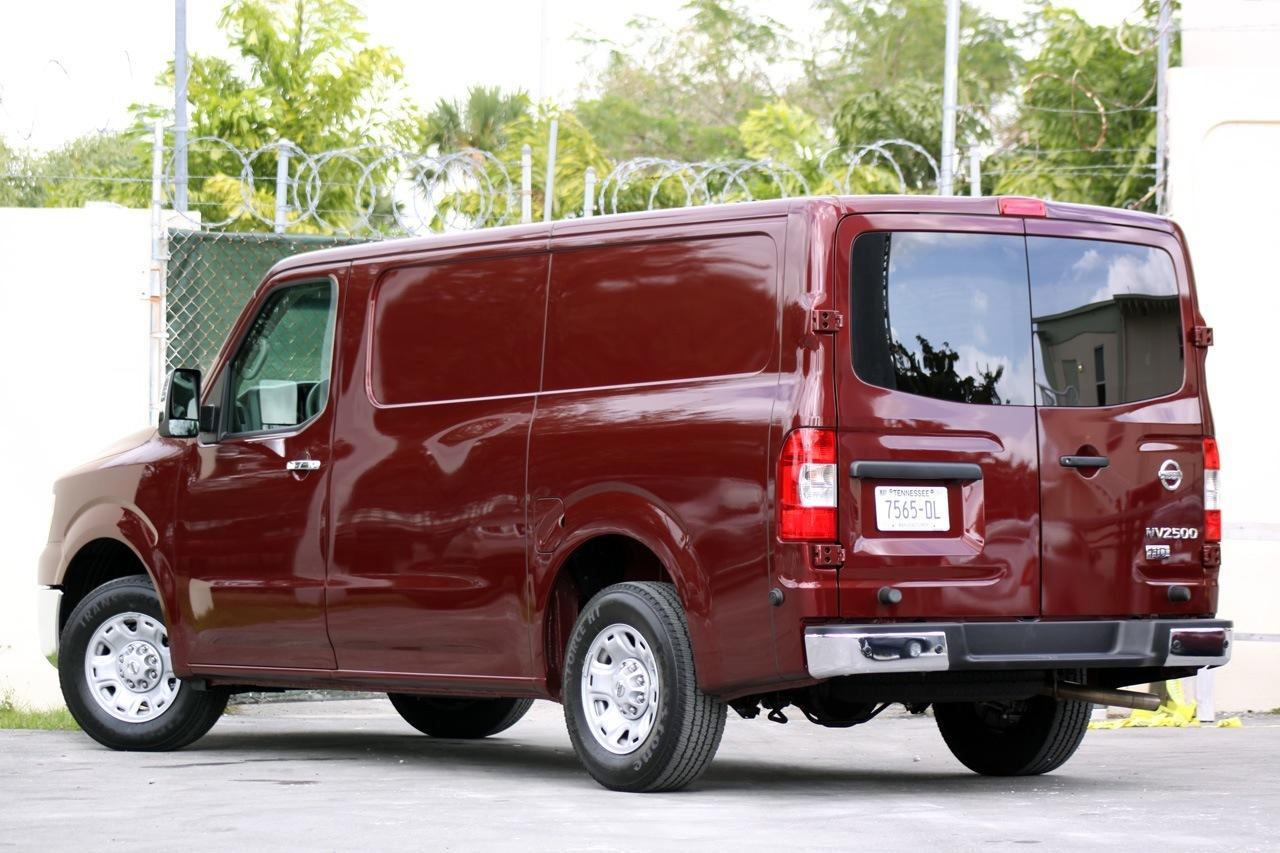car: (0, 194, 1223, 777)
